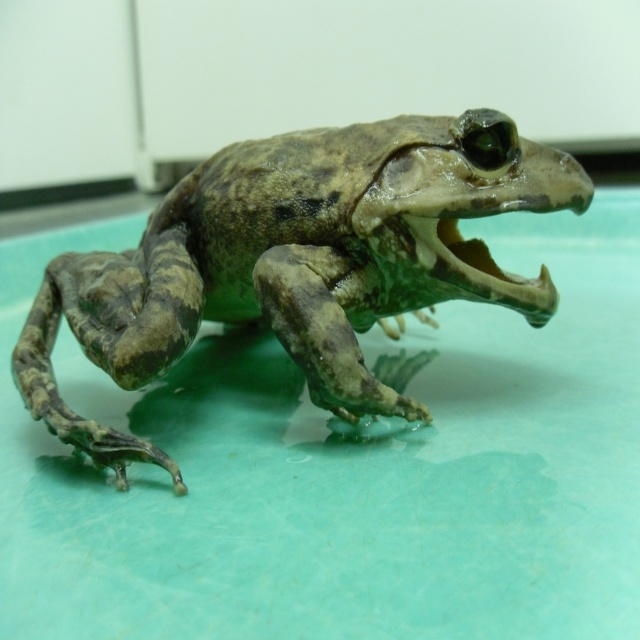Frog: (10, 105, 596, 499)
